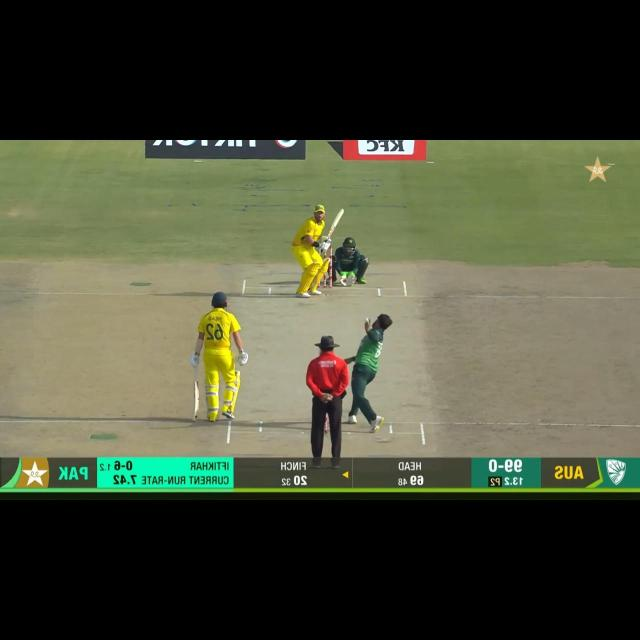bat: (328, 207, 344, 240), (191, 380, 202, 423)
toe: (190, 411, 201, 423), (336, 208, 346, 216)
